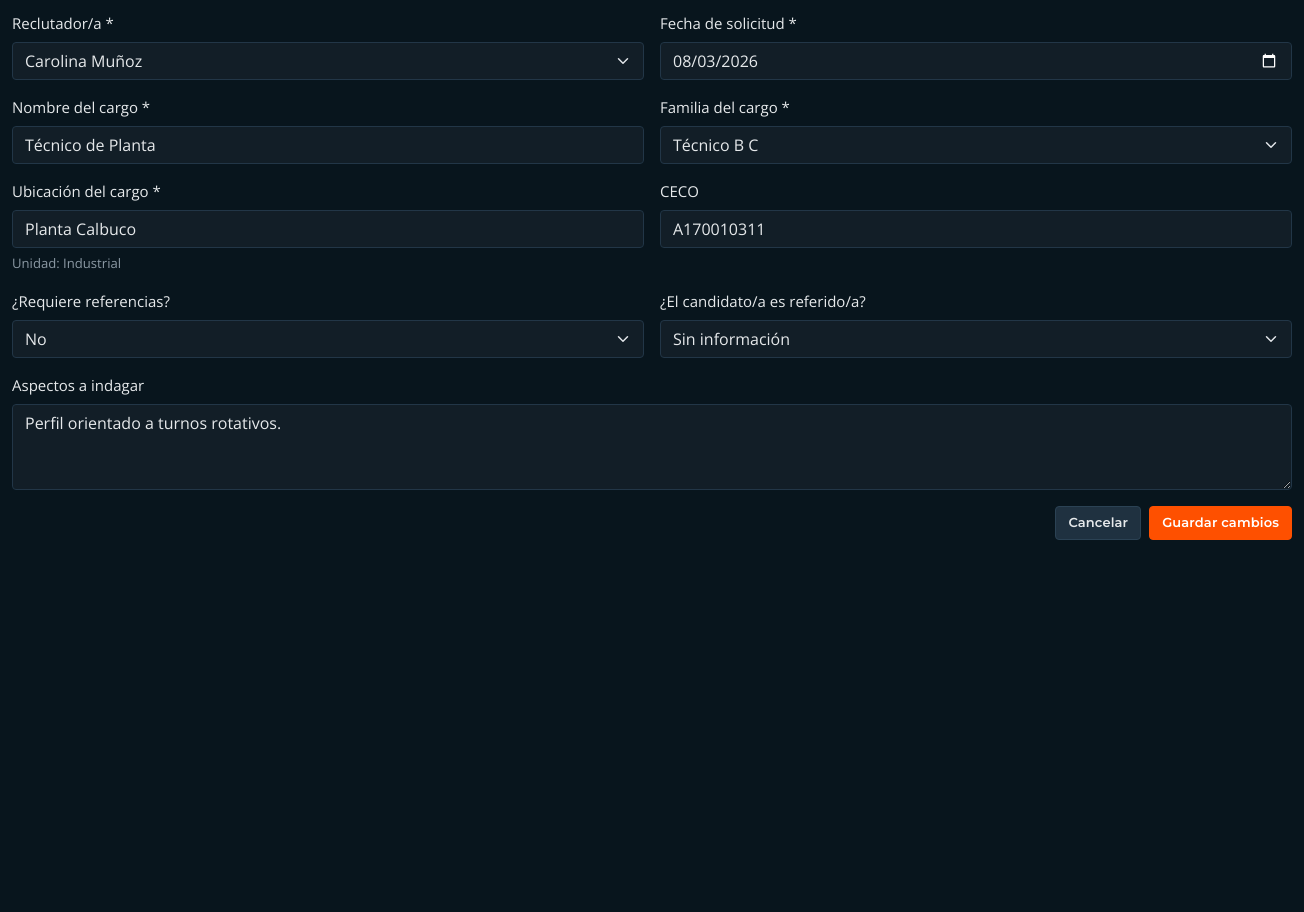
Test: FormularioEdicionSolicitud › valida campos obligatorios y el formato del CECO
Clear the field labelled "Nombre del cargo *". click: point(328, 145)
box: [12,126,644,164]
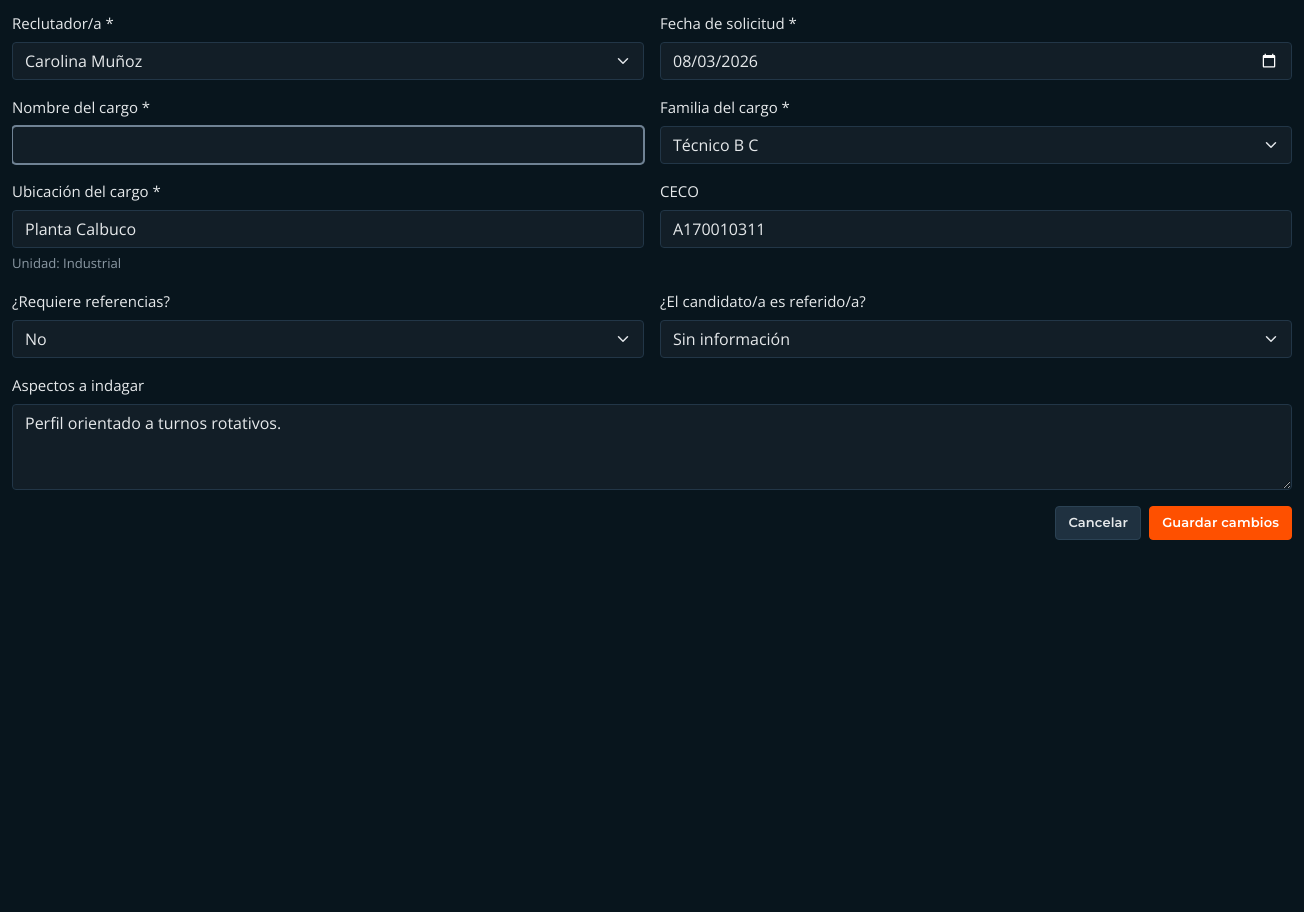
Type "123" into the field labelled "CECO". click: point(976, 229)
box: [660,210,1292,248]
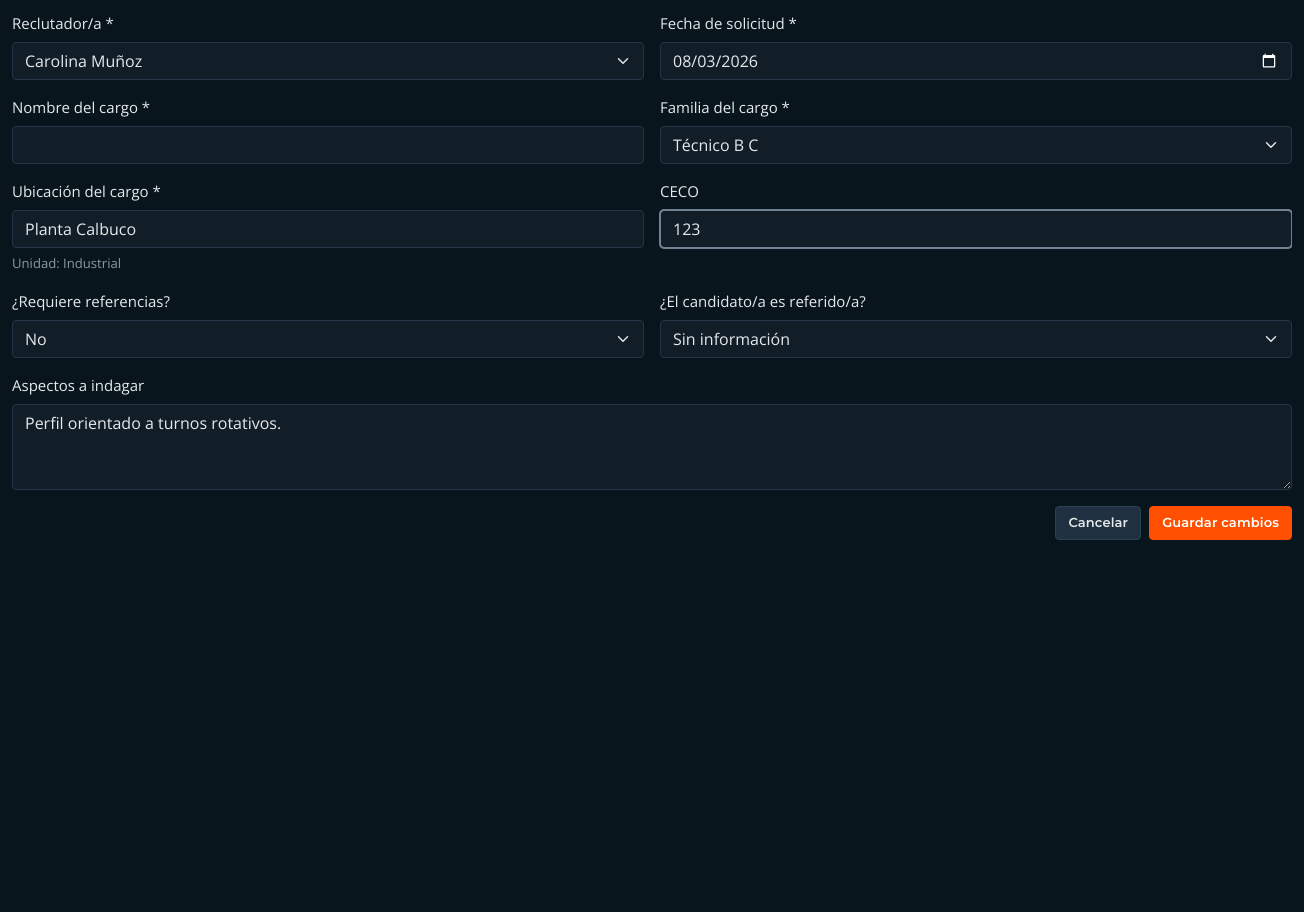
Click the button "Guardar cambios". click: point(1221, 523)
box: [1149,506,1292,540]
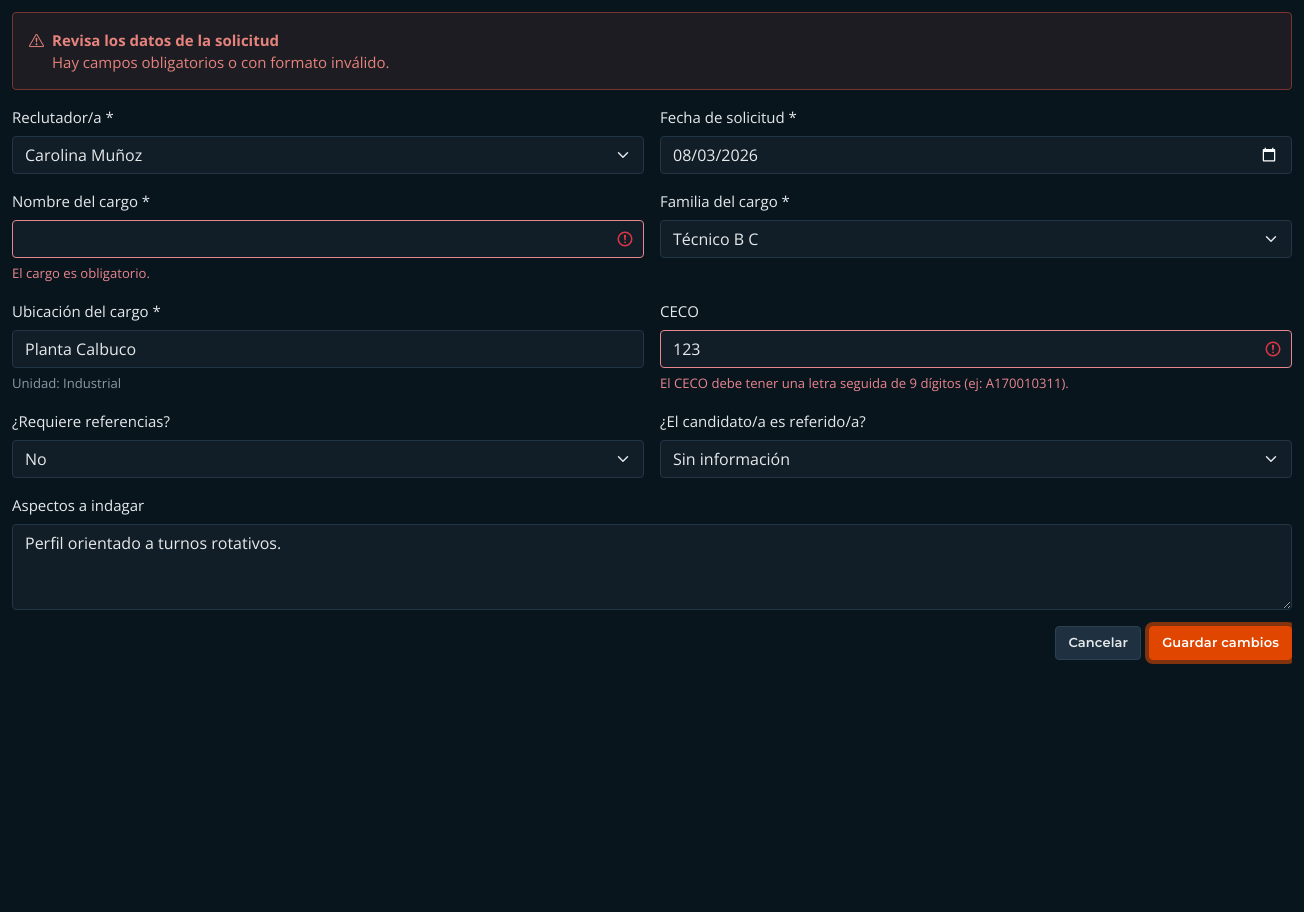
Check: the text "El cargo es obligatorio." is shown, box [12,264,150,282]
Check: the text "una letra seguida de 9 dígitos" is shown, box [660,374,1069,392]
